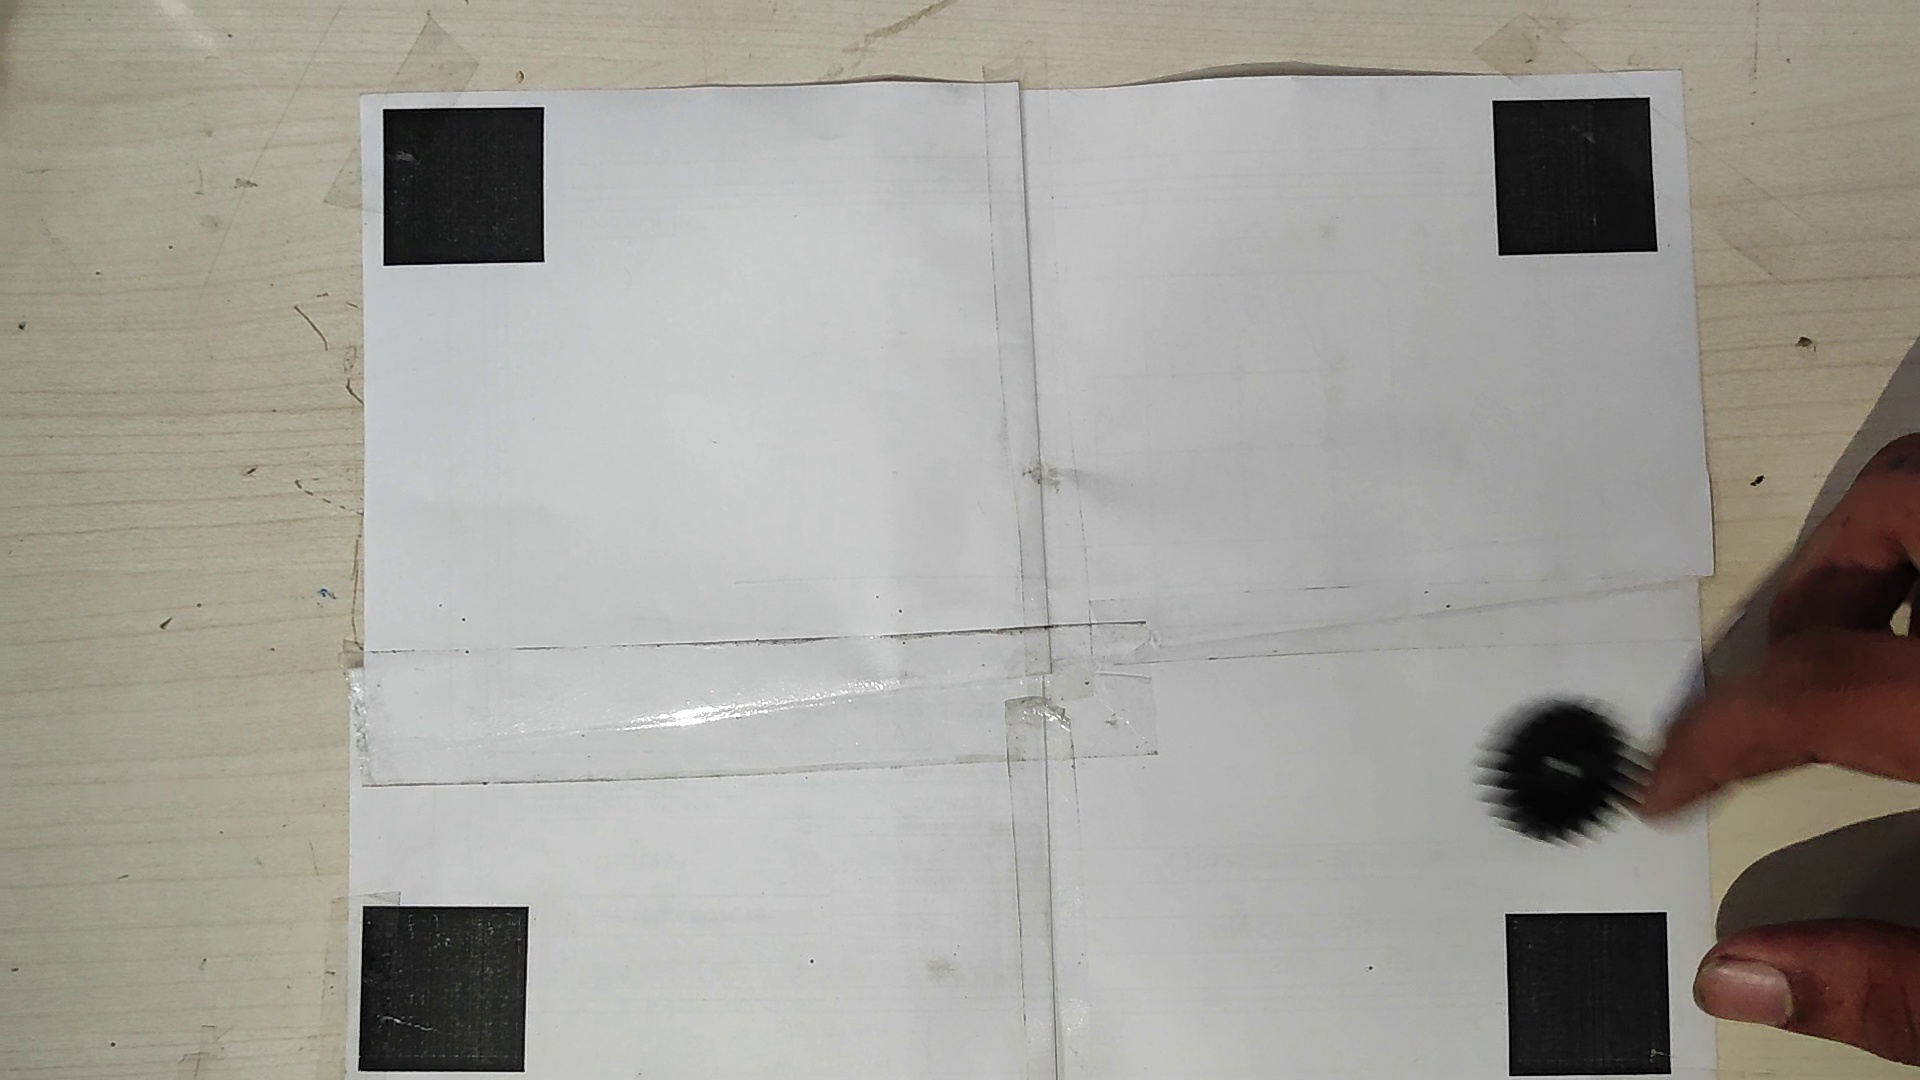Gear: (1503, 699, 1629, 843)
